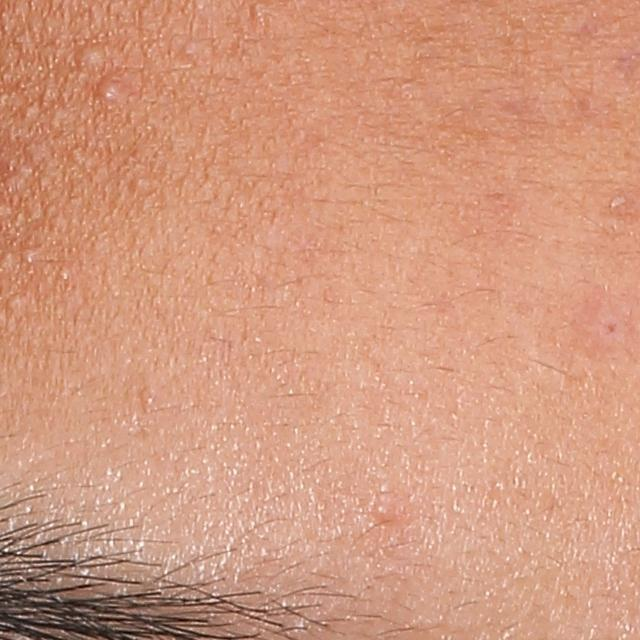comedo: (74, 44, 109, 73), (366, 496, 394, 522), (96, 78, 125, 103), (129, 175, 152, 195), (141, 385, 159, 405), (181, 39, 199, 57), (6, 291, 22, 311)
